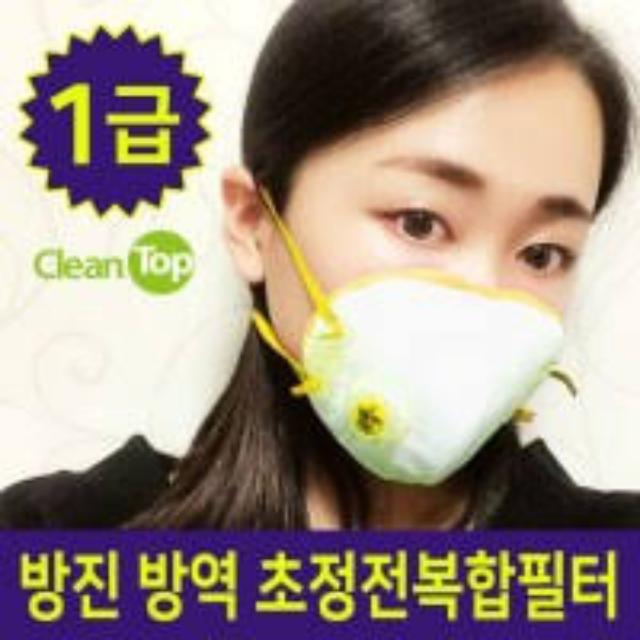masks: (276, 237, 592, 528)
